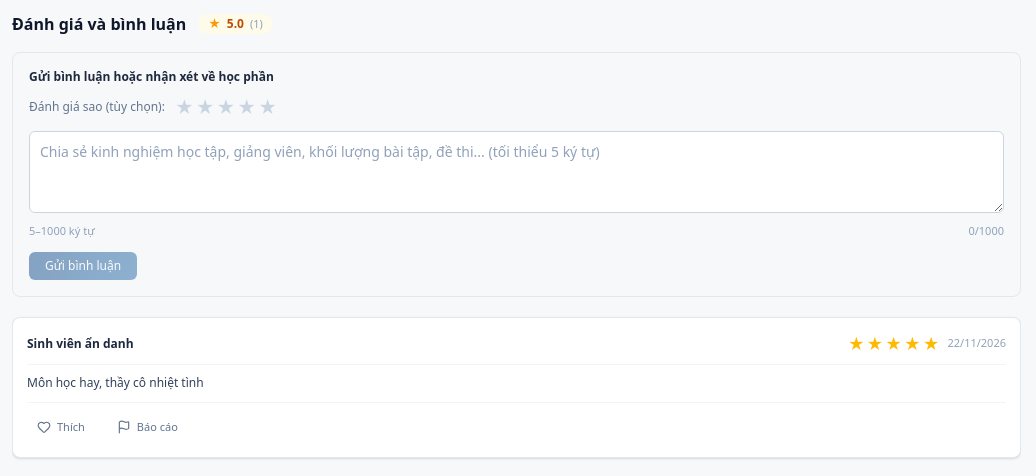
Test case: Brief A3: Kiểm duyệt nội dung & Đánh giá bình luận học phần › 1. Khối Đánh giá & bình luận trên trang chi tiết môn học (ModuleReviews) › gửi bình luận thành công hiển thị thông báo inline trong form (không toast lớn)
Replace the text in the text box named "Nội dung bình luận" with "Bình luận mới gửi thành công": (516, 172) x1=29 y1=131 x2=1004 y2=213
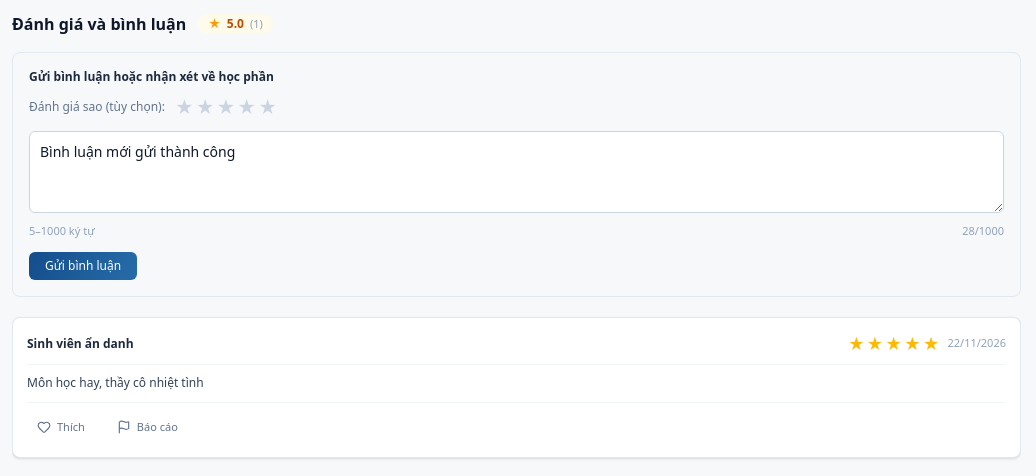
Note: Chọn 4 sao
Click the button named "4 sao": (247, 107) x1=237 y1=93 x2=256 y2=121
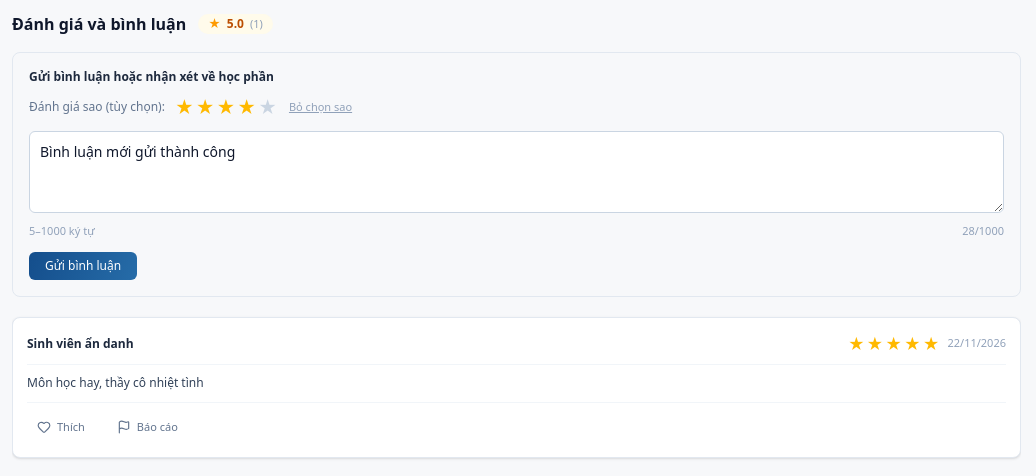
Click the button "Gửi bình luận": (83, 266) x1=29 y1=252 x2=137 y2=280
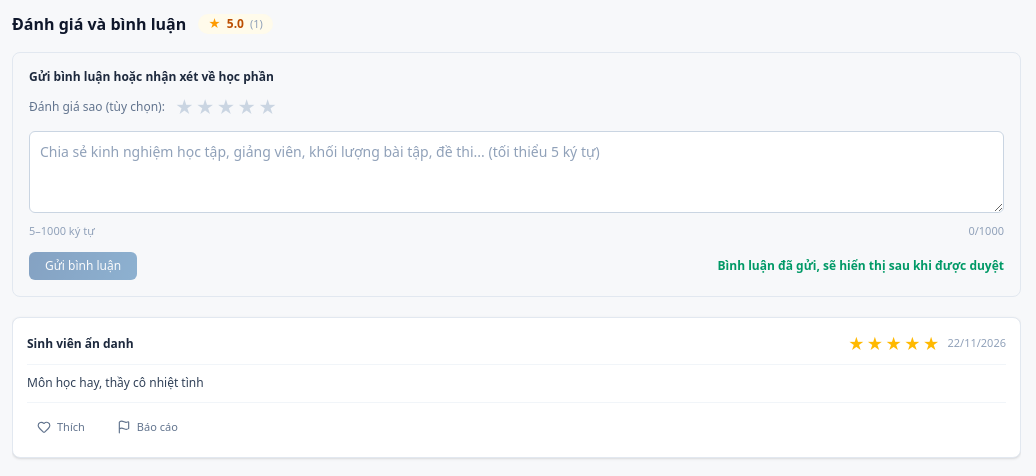
Expected: the text "Bình luận đã gửi, sẽ hiển thị sau khi được duyệt" is shown, x1=718 y1=258 x2=1004 y2=274
